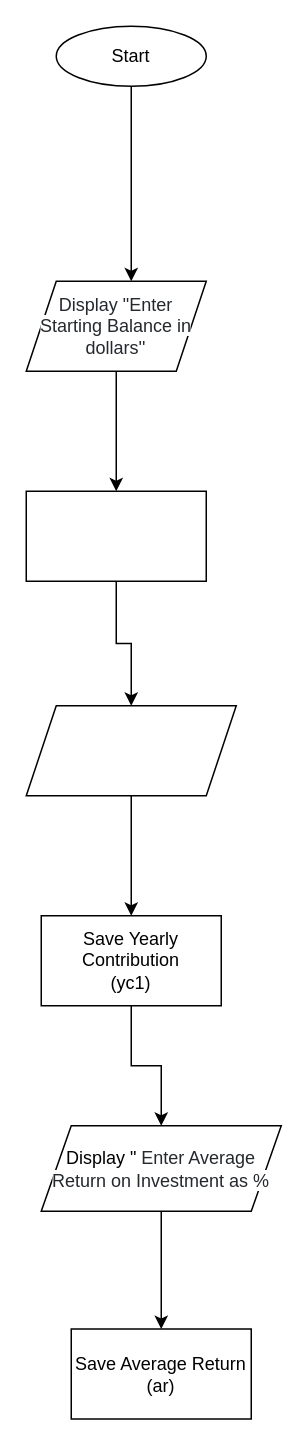
Image size: 308x1446. Some labels were removed from this diagram. The shapes that lost their labels are listed below. From the top down, each one's box as (x1, y1, x2, y2) in pixels, then its label:
(25, 490, 206, 581): Save Starting Balance(sb)
(25, 704, 236, 796): Display "Enter Yearly Contribution in dollars"
